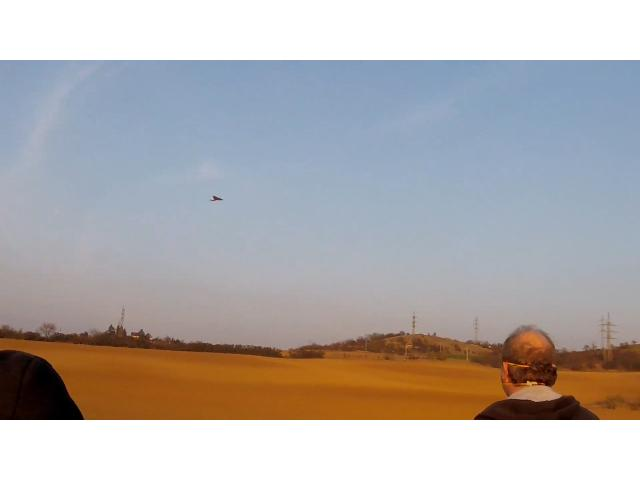Anti-Drone: (209, 196, 223, 200)
